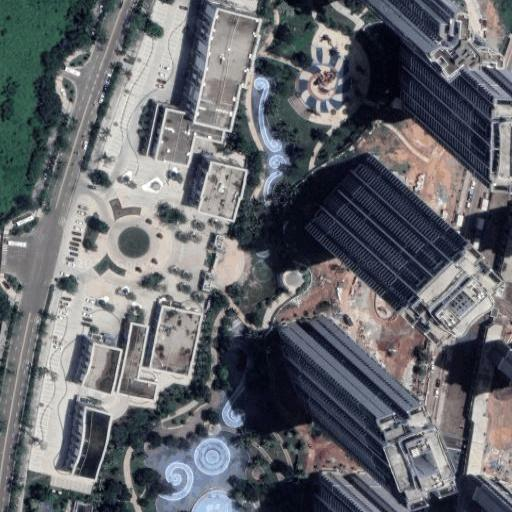building: (309, 162, 417, 269), (277, 318, 361, 427), (194, 7, 257, 134), (399, 17, 468, 114), (117, 324, 160, 404), (151, 306, 200, 376), (75, 408, 113, 480), (155, 109, 201, 167), (199, 161, 247, 216), (305, 477, 369, 512), (82, 345, 124, 398), (475, 468, 512, 512), (494, 348, 512, 380), (196, 127, 224, 145), (76, 502, 94, 512)
